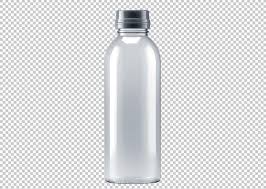bottle: (100, 5, 166, 189)
